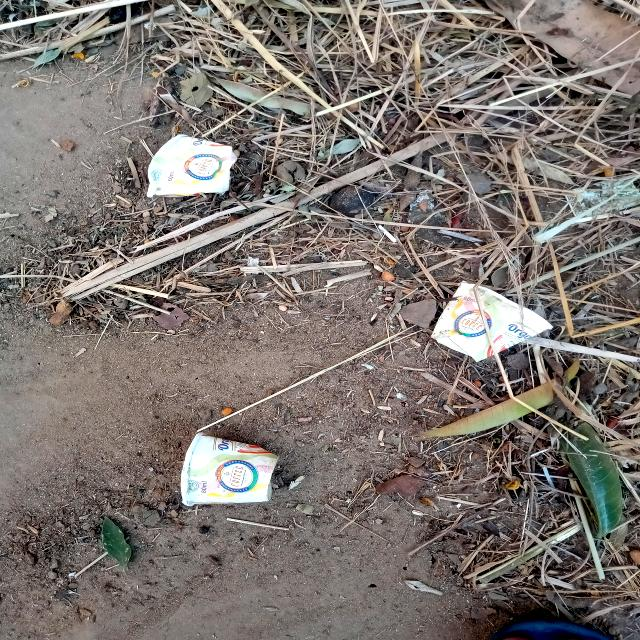Trash: (424, 277, 551, 364), (171, 424, 283, 521), (141, 128, 237, 202)
